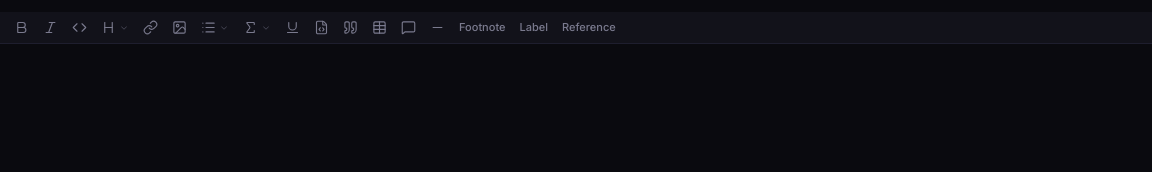
Test: FormatToolbar › opens headings dropdown on click
Click the button titled "Headings". click: point(115, 28)
box: [95,14,135,41]
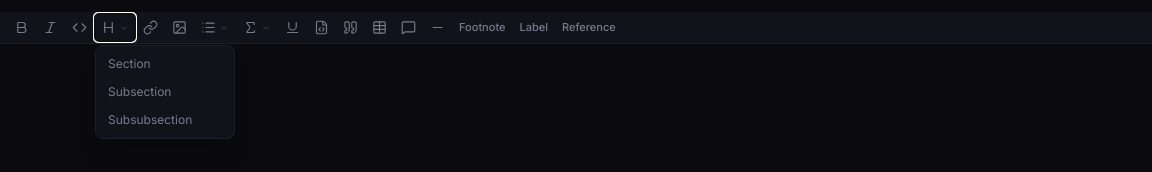
Expected: the button "Section" is shown, [100,50,230,78]
Expected: the button "Subsection" is shown, [100,78,230,106]
Expected: the button "Subsubsection" is shown, [100,106,230,134]
